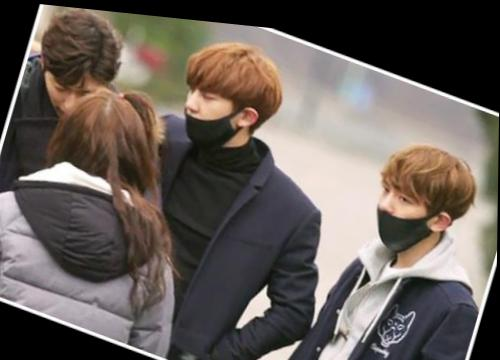NONE: (40, 66, 103, 133)
WRONG: (366, 165, 437, 254), (174, 73, 245, 155)
